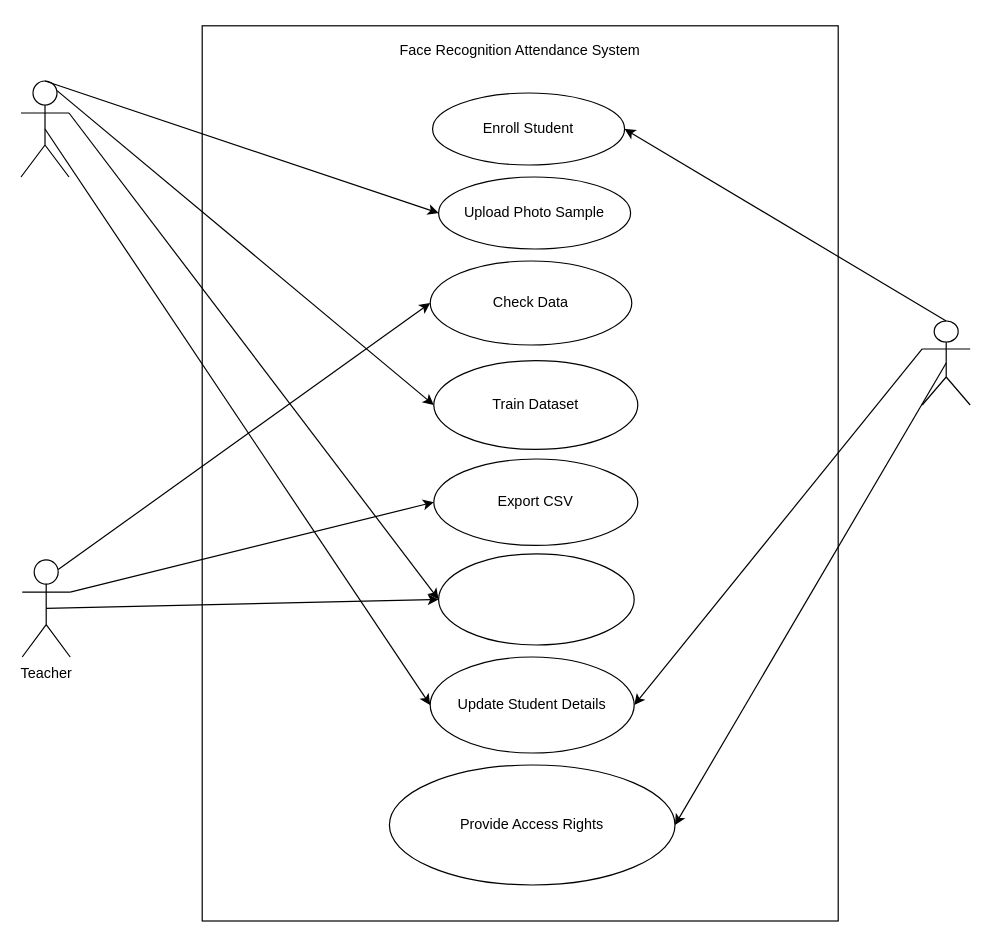
Some shapes in this 991 by 942 pixel diagram are drawn without their labels. Each missing label, with the centre of its shape:
Admin: point 945,362
Mark Attendance: point 535,599
Student: point 44,128
